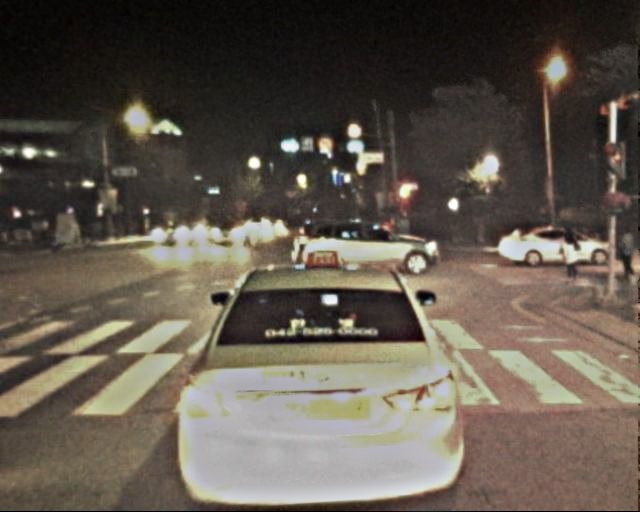person: (559, 228, 584, 287), (617, 228, 639, 286)
